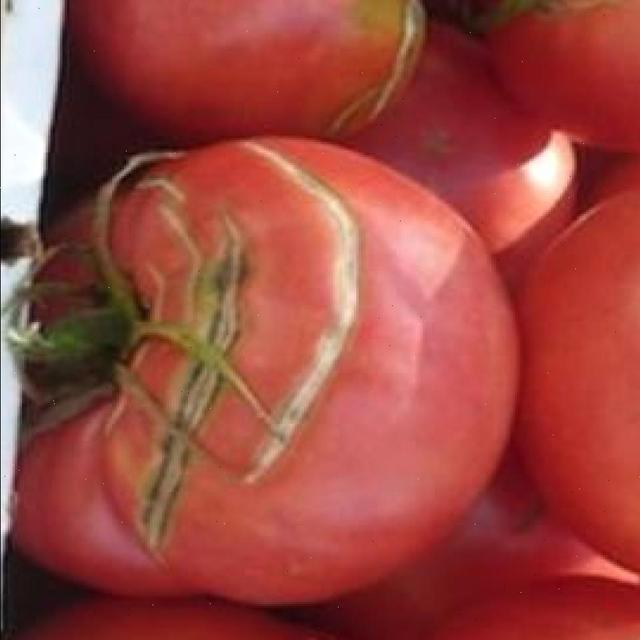Cracking Fruit: (60, 28, 349, 412)
